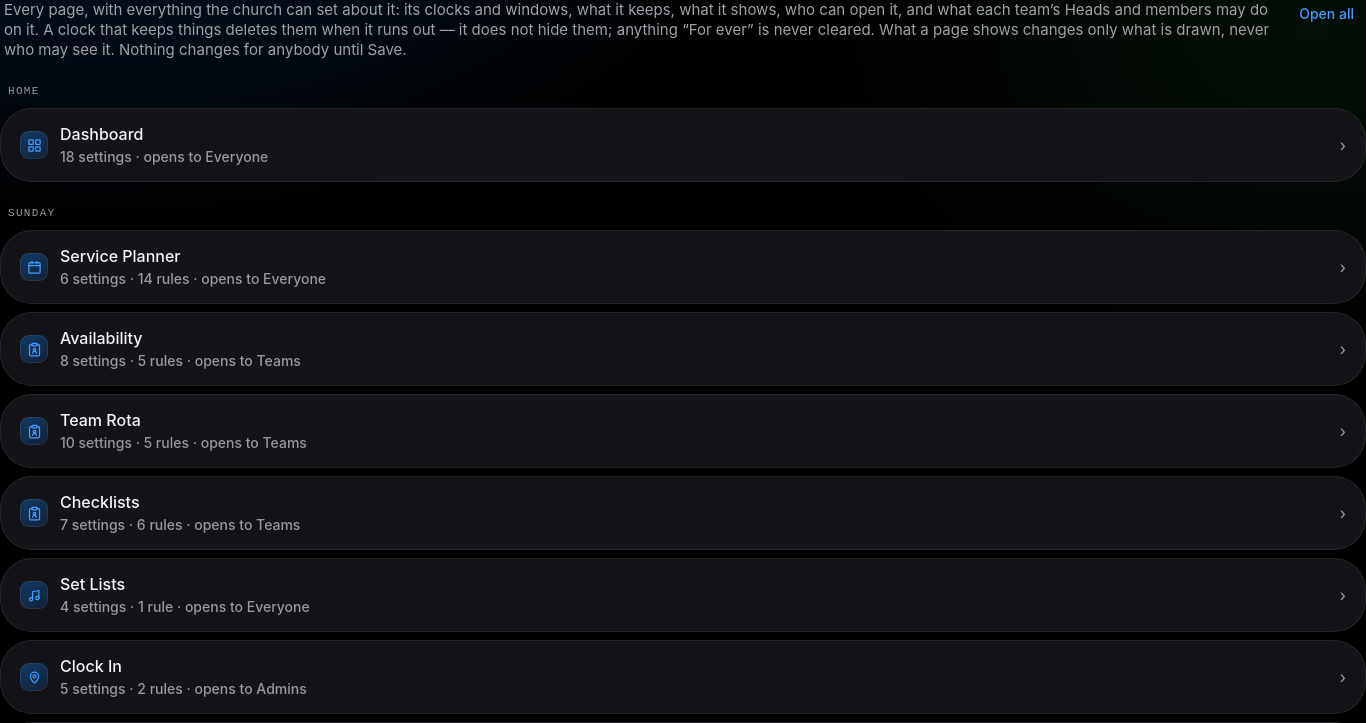
Page by Page › opens a page to its settings, the room with its own controls, who can open it, each team, and the church’s rule
Click the button "Team Rota 10 settings · 5 rules · opens to Teams ›" at (100, 420), box [0,394,1365,468]
(page scrolled)
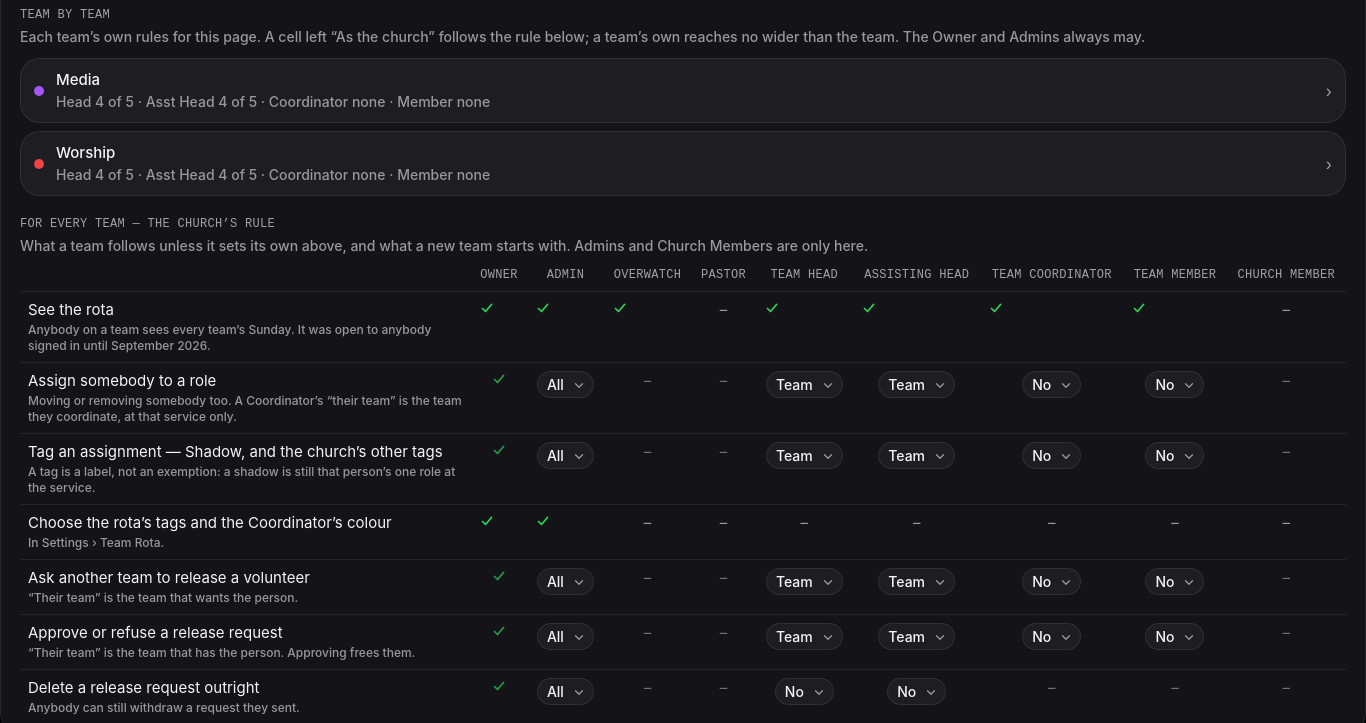
Expected: the button "Media" shows "Head 4 of 5 · Asst Head 4 of 5 · Coordinator none · Member none", [20,58,1346,123]
Expected: the heading "For every team — the church’s rule" is shown, [20,217,275,231]
Expected: the dropdown named "Assisting Head" reads "Team", [878,371,955,398]
